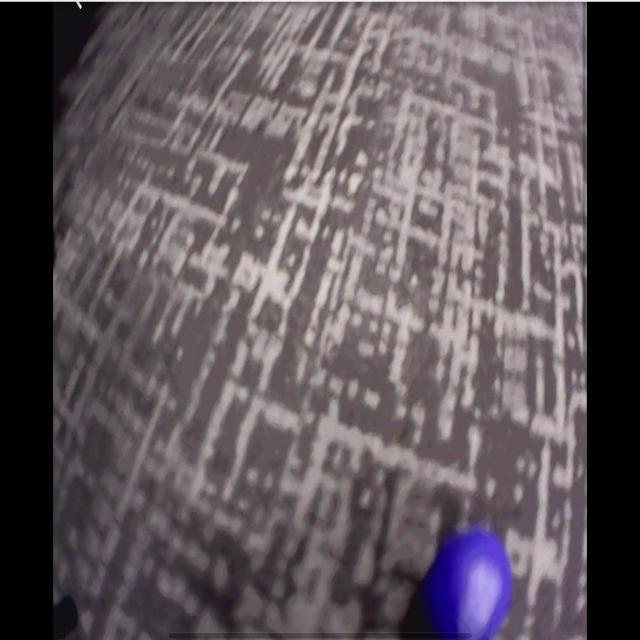ball: (433, 532, 512, 639)
